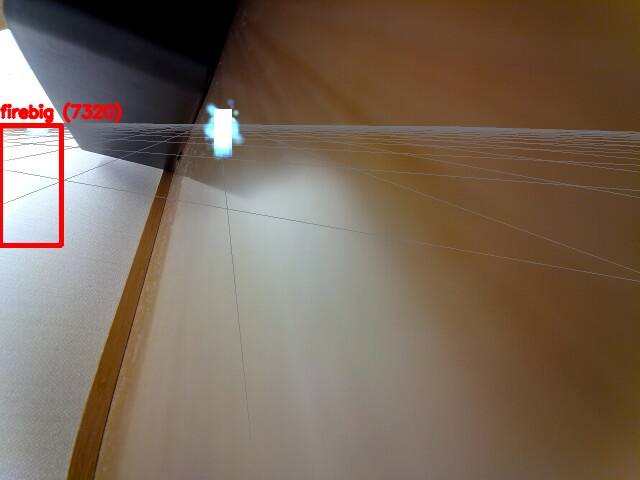firebig: (0, 125, 61, 245)
